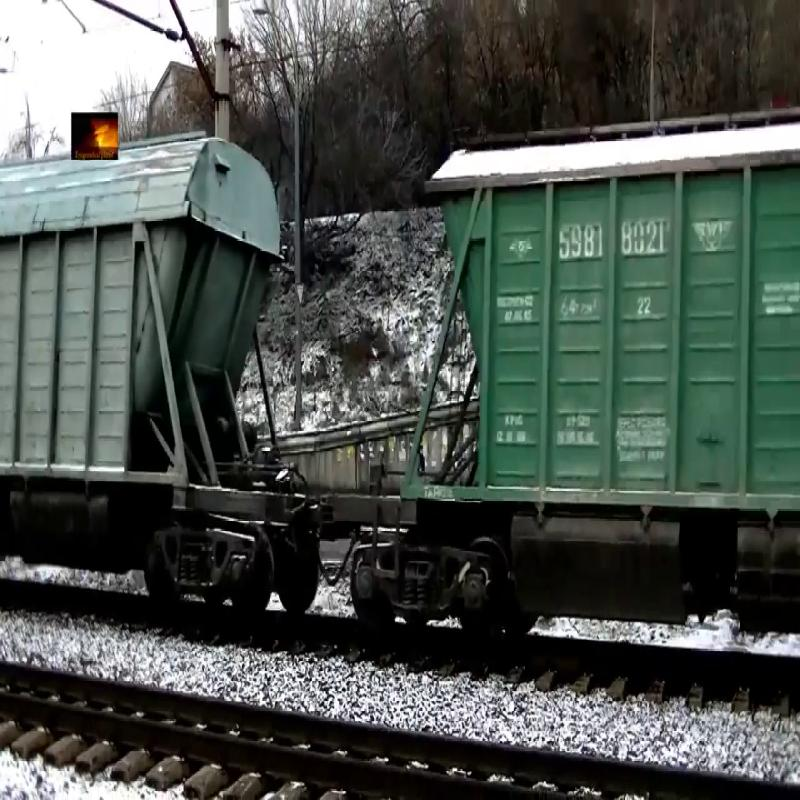train: (396, 107, 800, 565), (2, 130, 287, 531)
